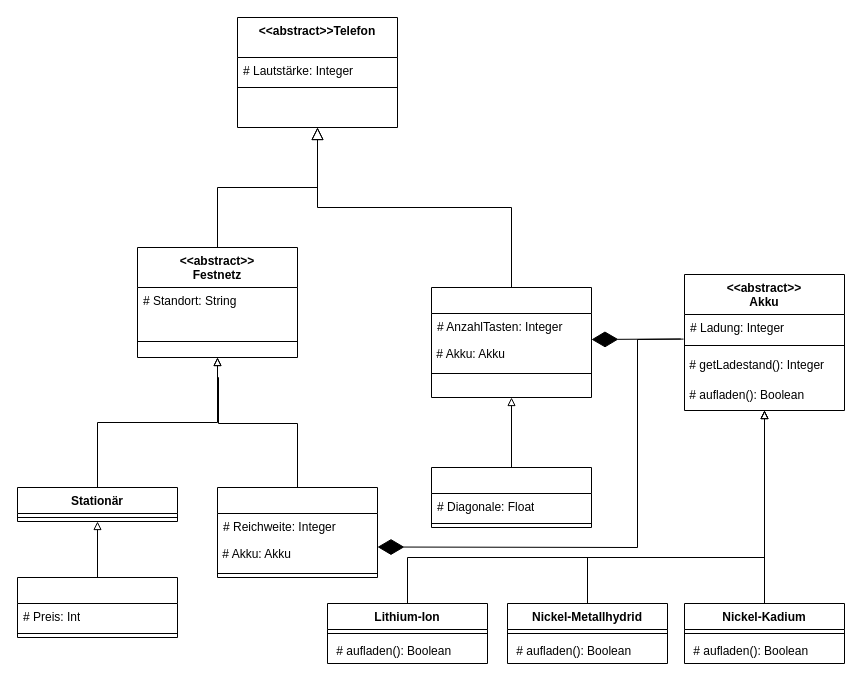
Image size: 862x684. Some labels were removed from this diagram. Each missing label, with the box of its shape:
Mobil: (430, 286, 592, 398)
Non-Stationär: (216, 486, 378, 578)
Smartphone: (430, 466, 592, 528)
Öffentlich: (16, 576, 178, 638)
